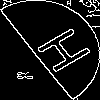H: (25, 25, 93, 81)
